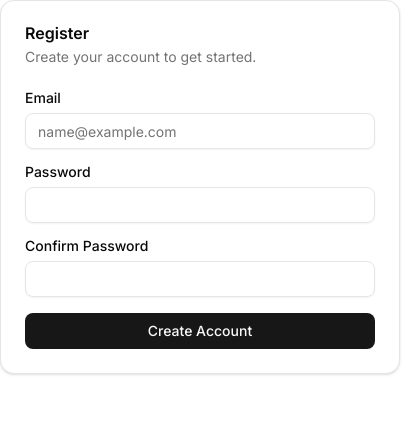
Test: RegistrationForm validates matching passwords
The image size is (417, 448).
Type "password123" into the password field labelled "Password".
click(200, 205); type("password123")  # box [25,187,375,223]
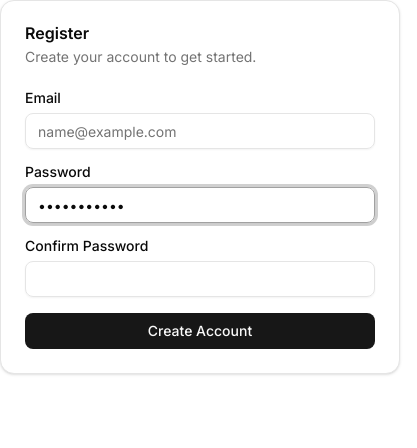
Type "password456" into the password field labelled "Confirm Password".
click(200, 279); type("password456")  # box [25,261,375,297]
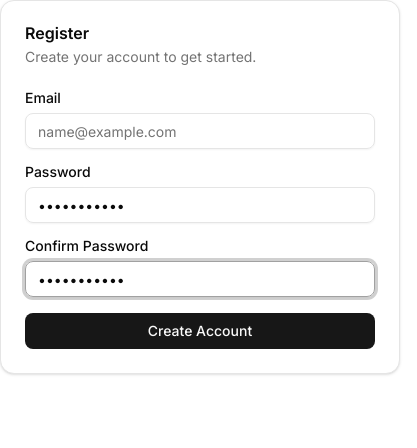
Click the button "Create Account".
click(200, 331)  # box [25,313,375,349]
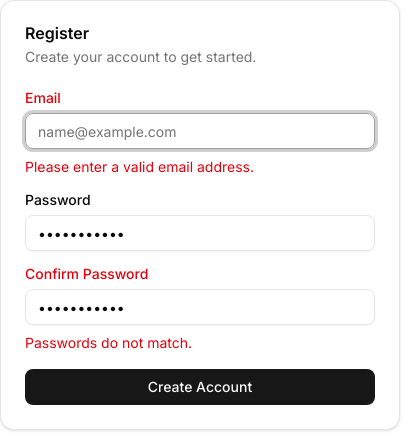
Expected: the text "Passwords do not match." is shown, [25,334,192,351]
